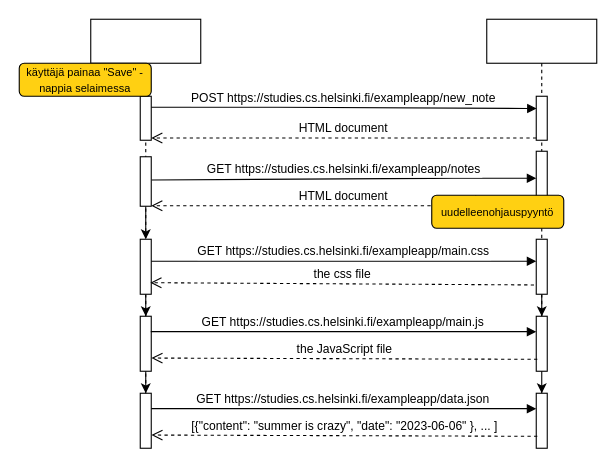
Some shapes in this 616 by 468 pixel diagram are drawn without their labels. Each missing label, with the box of its shape:
Browser: (90, 18, 201, 393)
Server: (486, 18, 597, 338)
